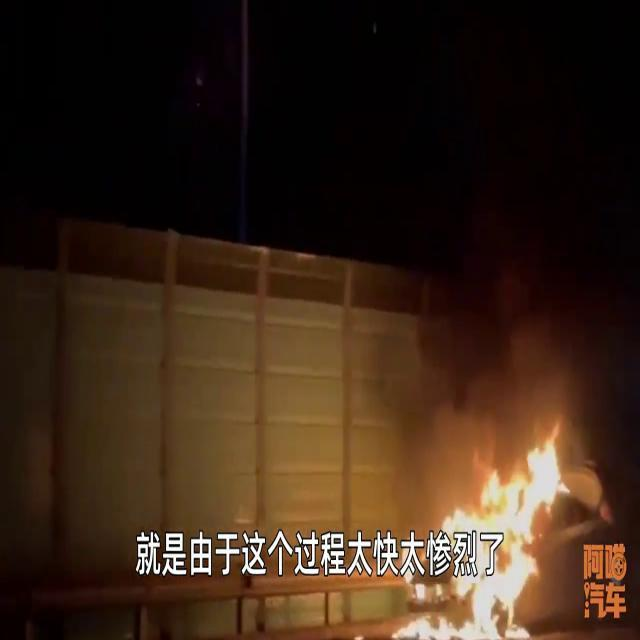Fire: (439, 423, 574, 634)
Smoke: (347, 219, 621, 471)
